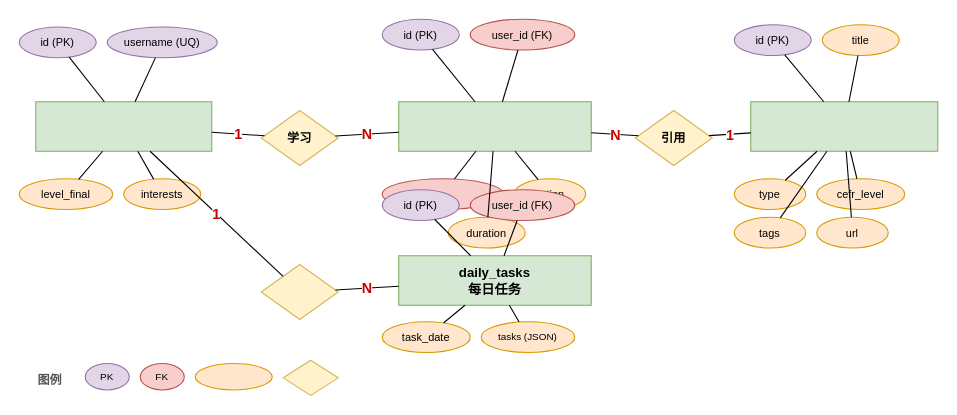
The diagram is 957 pixels wide and 415 high, and some of its shapes have lost their labels. Each missing label, with the box of its shape:
learning_materials 学习资料库: (750, 101, 938, 151)
material_id (FK): (381, 178, 503, 210)
material_records 资料学习记录: (398, 101, 591, 151)
user_profiles 用户画像表: (35, 101, 212, 151)
任务: (260, 263, 338, 320)
关系: (282, 359, 338, 395)
普通属性: (194, 362, 272, 390)
